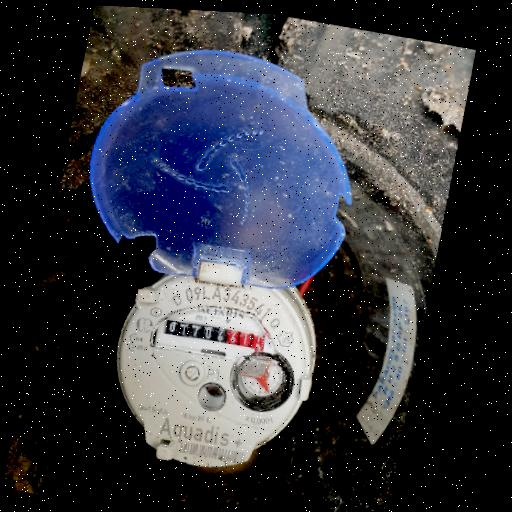0: (200, 325, 217, 342), (164, 320, 179, 336)
1: (248, 333, 266, 355), (236, 330, 253, 350), (175, 320, 190, 337)
6: (224, 328, 242, 348), (214, 327, 229, 344)
7: (187, 322, 204, 339)
border_water_meter_number: (160, 313, 270, 357)
